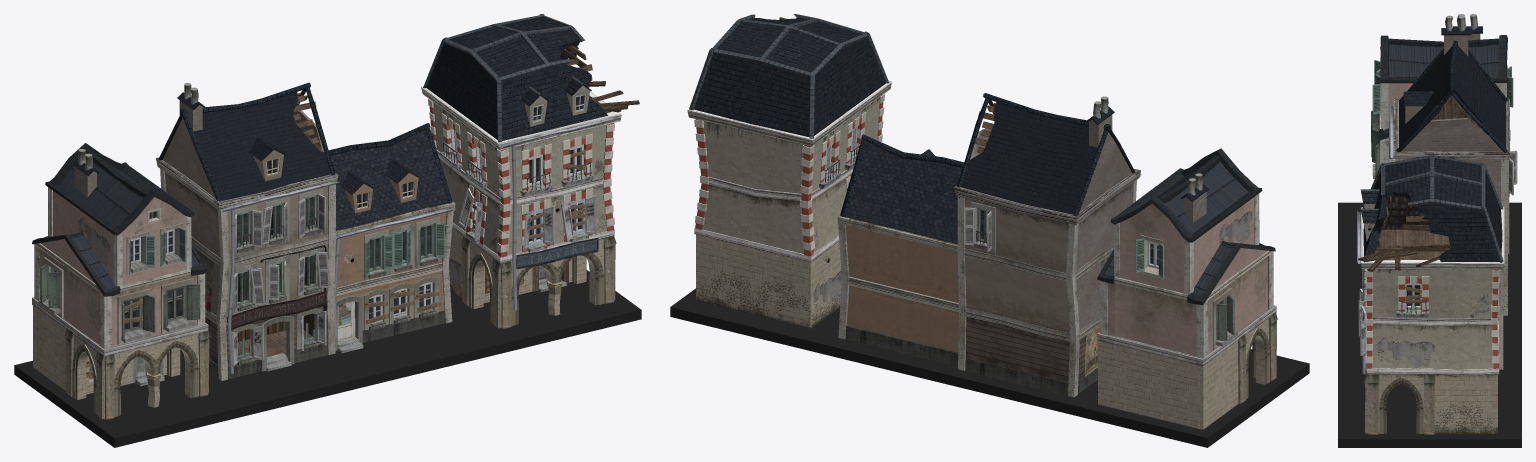
The model's file is 3_buildings_-_ww2_carentan_inspired.glb.
The picture shows the model from 3 angles, left to right: view 1: azimuth 30°, elevation 25°; view 2: azimuth 150°, elevation 25°; view 3: azimuth 270°, elevation 25°; orthographic projection. The views are drawn at different scales.
Visible parts, largest first — view 1: Houses_22 - Default_0, Houses_trims_1D_0, Houses_Marche_Roof_0, Houses_Marche_Tiling_0 (×2), Houses_Marche_door_glass_0 (×3), Houses_roof_tall_0, Houses_flowers_trims_0, Houses_Marche_Windowframes_0 (×2), Houses_Marche_First_Floor_0 (×2), Houses_flowers_windows_0 (×2), Houses_unique_windows_0, Houses_flower_walls_0 (+14 smaller); view 2: Houses_Marche_First_Floor_0 (×2), Houses_trims_1D_0, Houses_Marche_Roof_0, Houses_22 - Default_0, Houses_Marche_Other_Floors_0, Houses_flower_walls_0, Houses_plaster_walls_short_0, Houses_roof_tall_0, Houses_flowers_trims_0, Houses_plaster_walls_tall_0, Houses_Marche_Tiling_0, Houses_roof_short_0 (+10 smaller); view 3: Houses_22 - Default_0, Houses_Marche_Other_Floors_0, Houses_Marche_Roof_0, Houses_Marche_Tiling_0 (×2), Houses_roof_tall_0, Houses_Marche_First_Floor_0, Houses_trims_1D_0, Houses_brick_walls_sides_0, Houses_Marche_Opacity_0, Houses_flowers_trims_0, Houses_flowers_roof_0, Houses_Marche_Windowframes_0 (+9 smaller).
Part boxes in pixels (box(x1,y1,x2,y2)): Houses_22 - Default_0: box(14, 270, 641, 447); Houses_trims_1D_0: box(156, 82, 455, 380); Houses_Marche_Roof_0: box(426, 17, 607, 140); Houses_Marche_Tiling_0 (×2): box(220, 14, 621, 373); Houses_Marche_door_glass_0 (×3): box(65, 151, 616, 419); Houses_roof_tall_0: box(177, 91, 330, 200); Houses_flowers_trims_0: box(32, 143, 208, 357); Houses_Marche_Windowframes_0 (×2): box(231, 94, 614, 366); Houses_Marche_First_Floor_0 (×2): box(33, 225, 604, 419); Houses_flowers_windows_0 (×2): box(38, 208, 445, 379); Houses_unique_windows_0: box(184, 83, 434, 358); Houses_flower_walls_0: box(40, 191, 197, 346); Houses_Marche_First_Floor_0 (×2): box(696, 234, 1268, 429); Houses_trims_1D_0: box(837, 93, 1140, 397); Houses_Marche_Roof_0: box(694, 17, 886, 137); Houses_22 - Default_0: box(670, 288, 1309, 447); Houses_Marche_Other_Floors_0: box(702, 98, 879, 253); Houses_flower_walls_0: box(1107, 197, 1267, 355); Houses_plaster_walls_short_0: box(846, 226, 958, 352); Houses_roof_tall_0: box(961, 101, 1114, 214); Houses_flowers_trims_0: box(1097, 148, 1276, 366); Houses_plaster_walls_tall_0: box(964, 196, 1069, 332); Houses_Marche_Tiling_0: box(687, 14, 891, 262); Houses_roof_short_0: box(847, 141, 962, 244); Houses_22 - Default_0: box(1338, 202, 1521, 447); Houses_Marche_Other_Floors_0: box(1364, 204, 1493, 369); Houses_Marche_Roof_0: box(1361, 157, 1502, 261); Houses_Marche_Tiling_0 (×2): box(1357, 105, 1504, 375); Houses_roof_tall_0: box(1399, 28, 1506, 148); Houses_Marche_First_Floor_0: box(1367, 374, 1497, 433); Houses_trims_1D_0: box(1394, 40, 1509, 369); Houses_brick_walls_sides_0: box(1401, 35, 1502, 201); Houses_Marche_Opacity_0: box(1366, 223, 1497, 433); Houses_flowers_trims_0: box(1378, 35, 1510, 196); Houses_flowers_roof_0: box(1383, 43, 1499, 134); Houses_Marche_Windowframes_0: box(1358, 269, 1499, 363).
Bounding box in the file's own units: 3679 × 1813 × 1174.
Materials: 47 (46 with a texture image).
